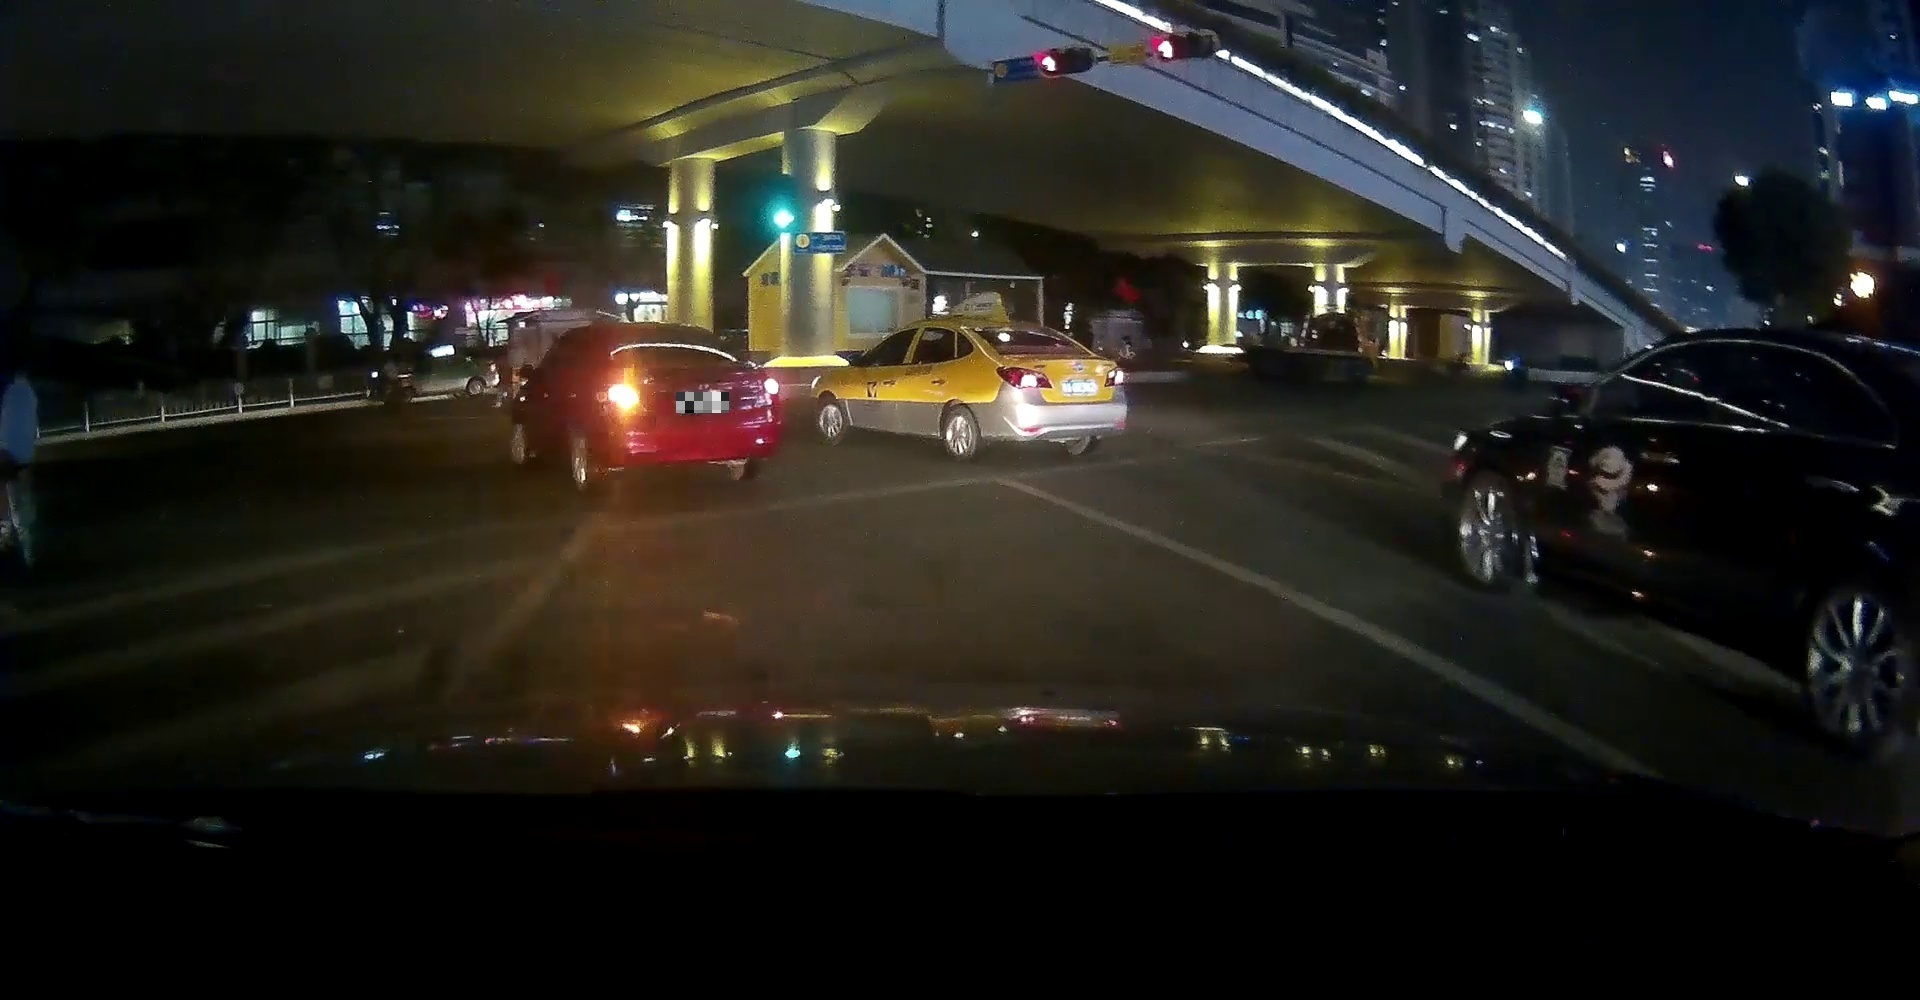L_light: (606, 387, 650, 418), (996, 365, 1051, 390)
R_light: (754, 376, 780, 407), (1102, 364, 1125, 388)
T_light: (660, 332, 681, 338), (1012, 329, 1031, 332)
night-left: (596, 322, 785, 492)
night-no: (968, 319, 1128, 462)
plate_1: (676, 392, 729, 412)
